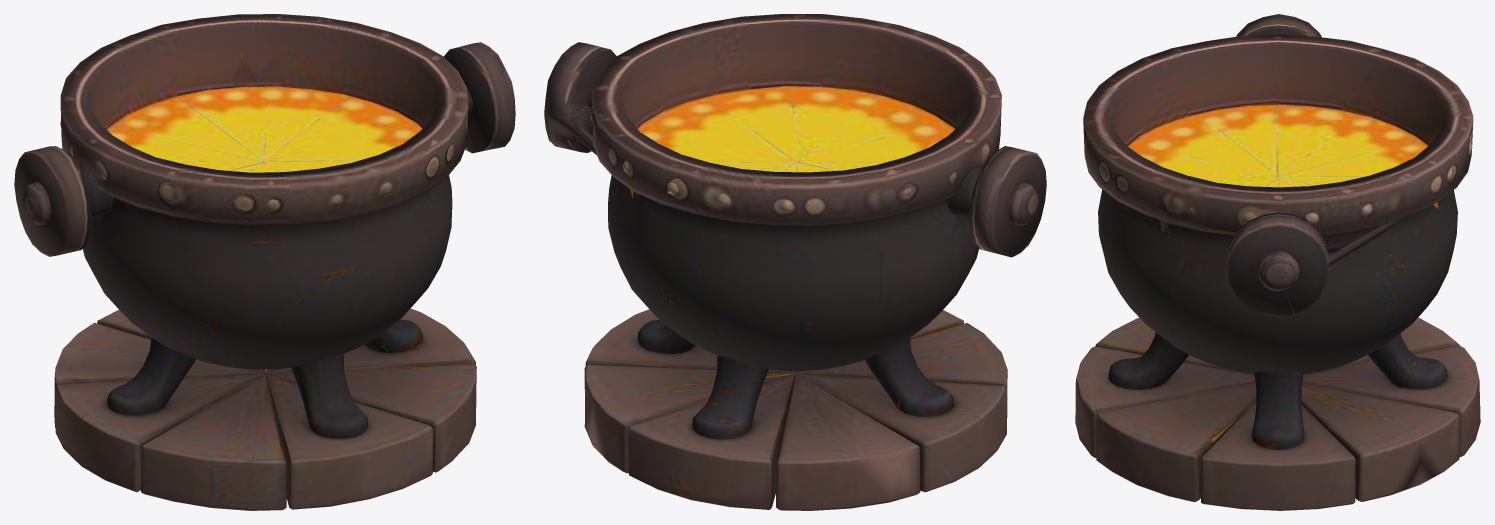
The model's file is cauldron.glb.
The picture shows the model from 3 angles, left to right: view 1: azimuth 30°, elevation 25°; view 2: azimuth 150°, elevation 25°; view 3: azimuth 270°, elevation 25°; orthographic projection. The views are drawn at different scales.
Bounding box in the file's own units: 1 × 0.6546 × 0.7775.
Materials: 1 (1 with a texture image).
